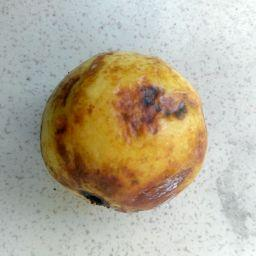guava: (37, 44, 211, 215)
